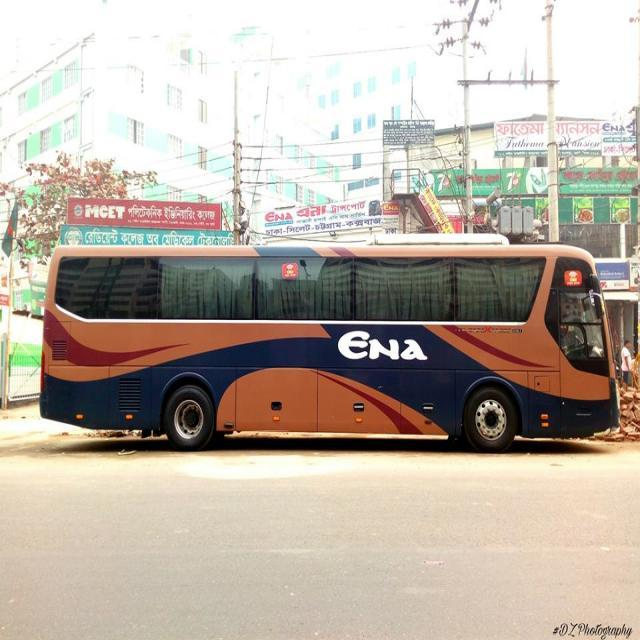bus: (37, 230, 623, 457)
